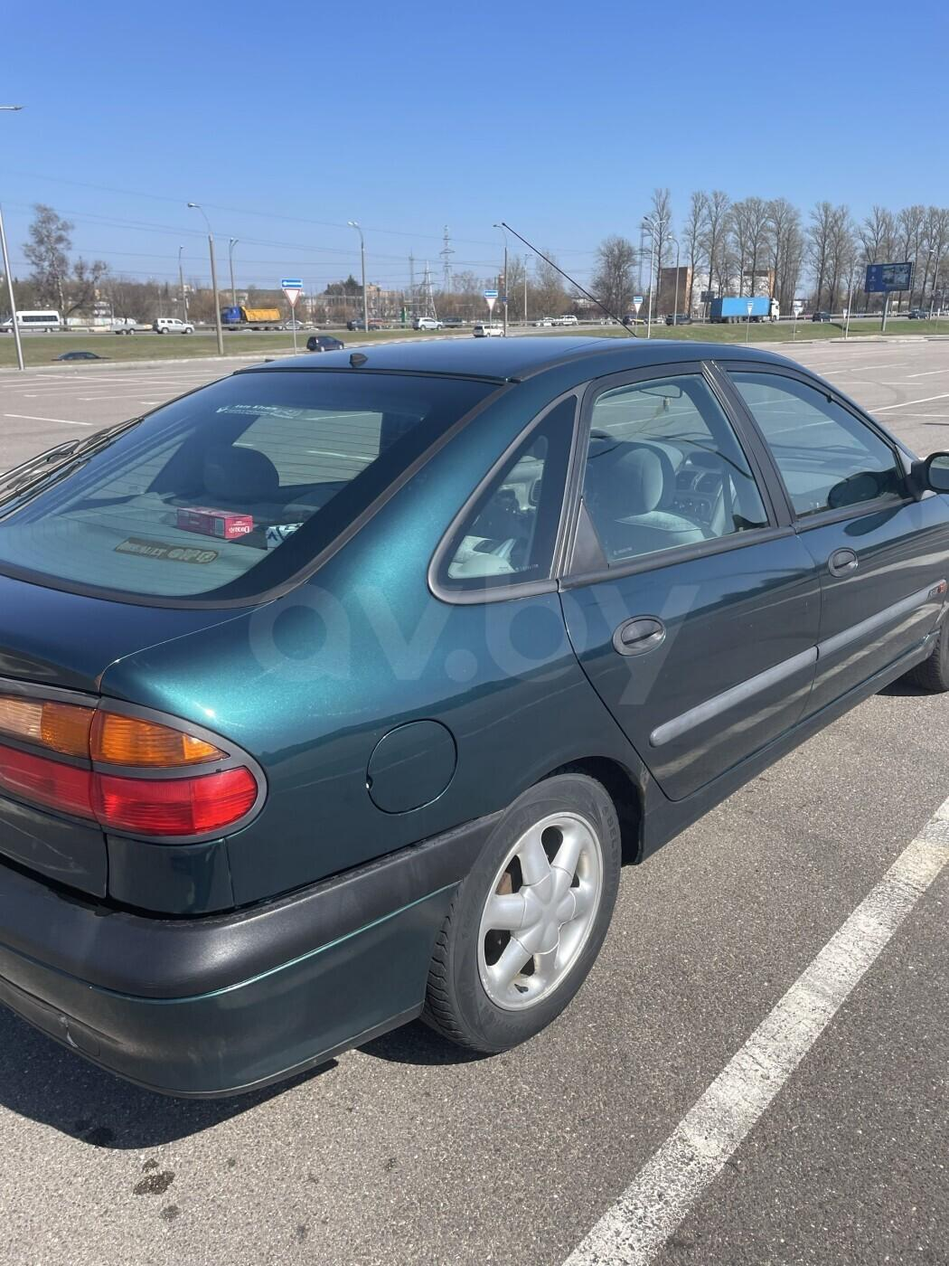Laguna_1998-2001: (0, 338, 949, 1129)
